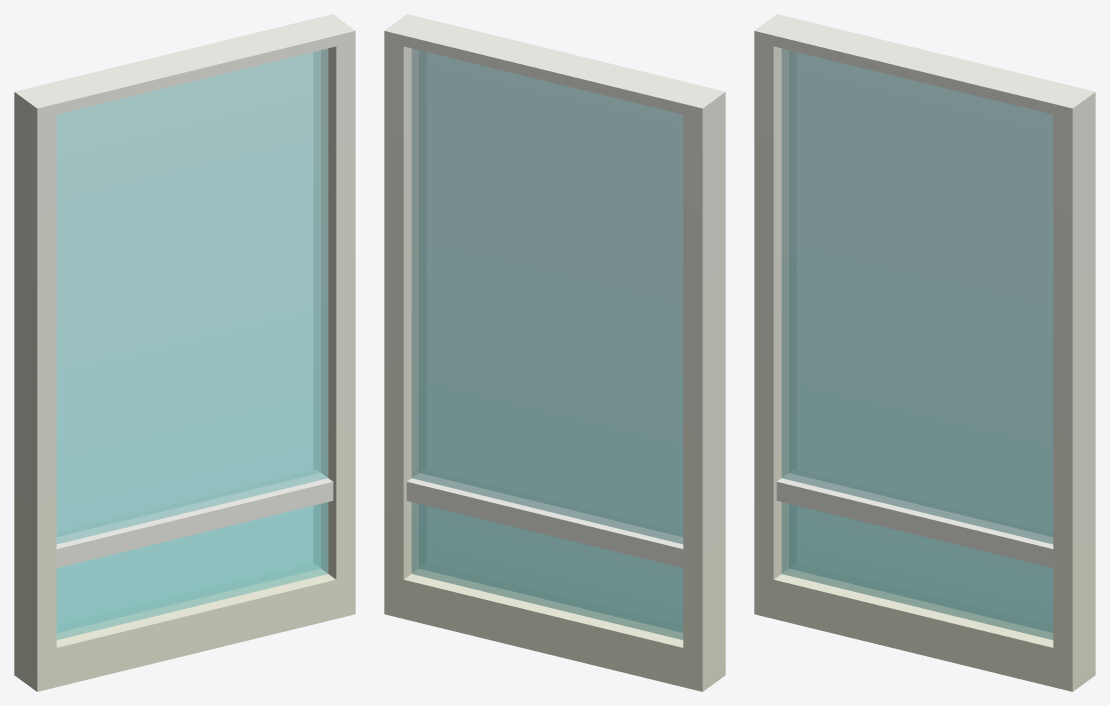
File: 2m_Window_Storefront_Laundromat.fbx
3 renders of one model, left to right at view 1: azimuth 30°, elevation 25°; view 2: azimuth 150°, elevation 25°; view 3: azimuth 330°, elevation 25°, orthographic.
Visible parts, largest first — view 1: 2m_Window_Storefront.Laundromat; view 2: 2m_Window_Storefront.Laundromat; view 3: 2m_Window_Storefront.Laundromat.
Part boxes in pixels (<box>): 2m_Window_Storefront.Laundromat: <box>14,14,355,691</box>; 2m_Window_Storefront.Laundromat: <box>384,14,725,691</box>; 2m_Window_Storefront.Laundromat: <box>754,14,1095,691</box>.
Bounding box in the file's own units: 200 × 350 × 25.
Materials: 2 (2 with a texture image).
